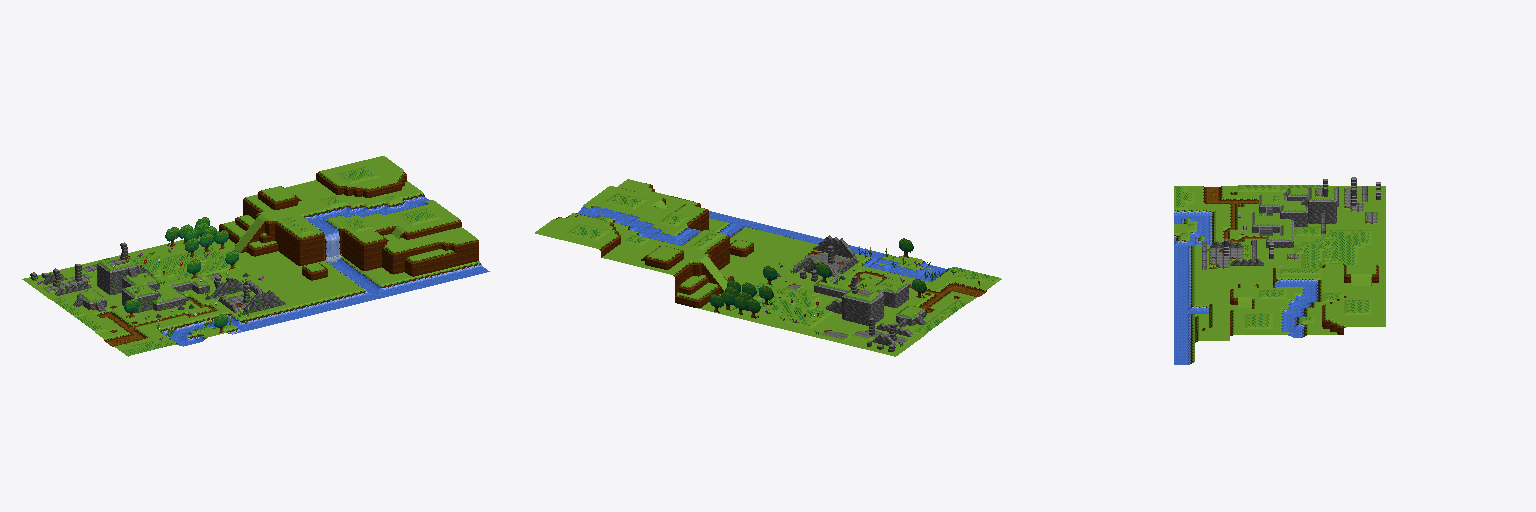
The picture shows the model from 3 angles: view 1: azimuth 30°, elevation 25°; view 2: azimuth 150°, elevation 25°; view 3: azimuth 270°, elevation 25°; orthographic projection.
Parts seen in each view (by area): view 1: Default; view 2: Default; view 3: Default.
Part boxes in pixels (x1,y1,x2,y2): Default: (22,156,489,356); Default: (535,179,1001,356); Default: (1174,177,1385,364).
Size of the model in its own units: 59 by 7.06 by 30.
Materials: 6 (6 with a texture image).